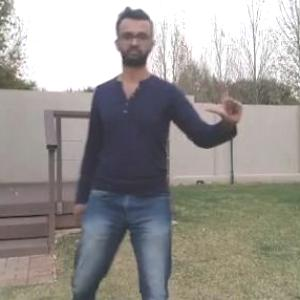land_hand: (202, 79, 246, 129)
